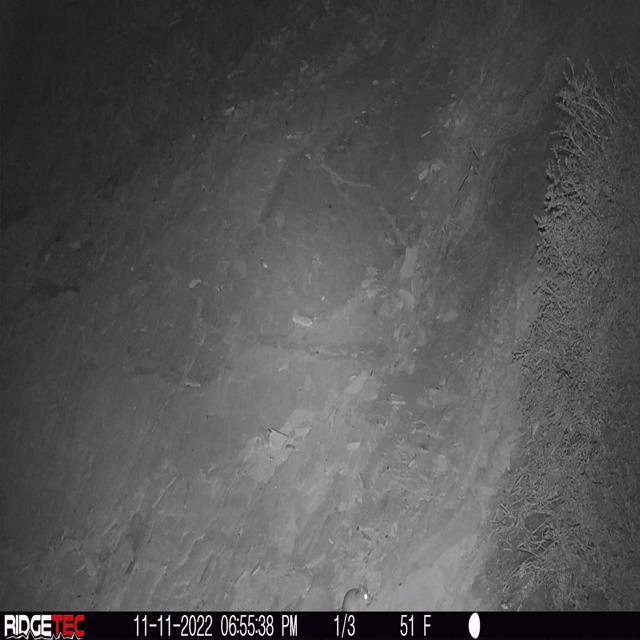rodent: (342, 585, 372, 611)
